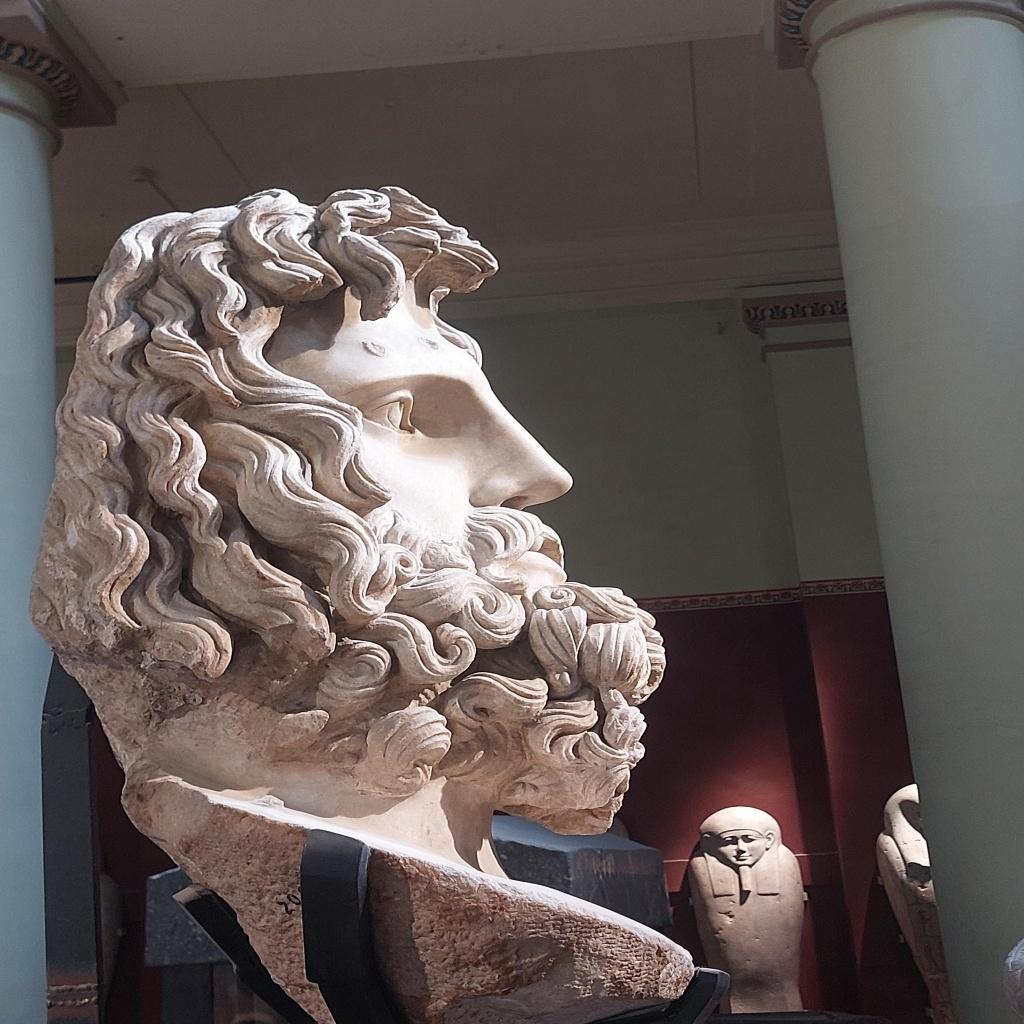Clossal Head of the god Serapis: (36, 176, 679, 874)
